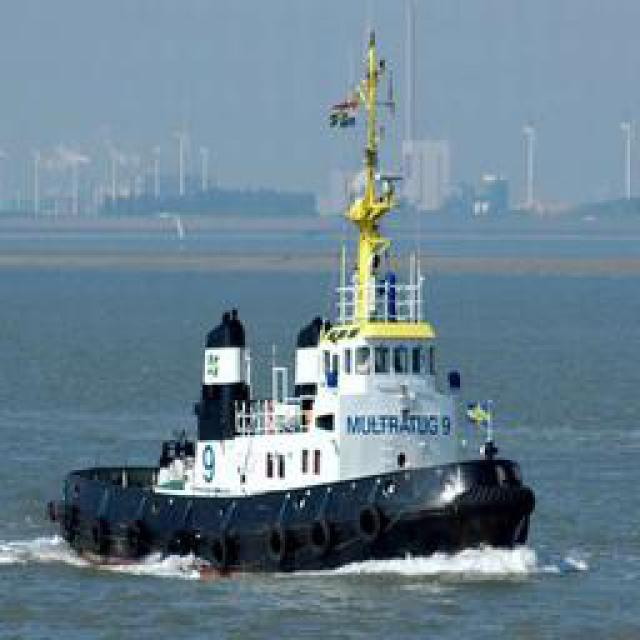Ship: (46, 39, 539, 574)
